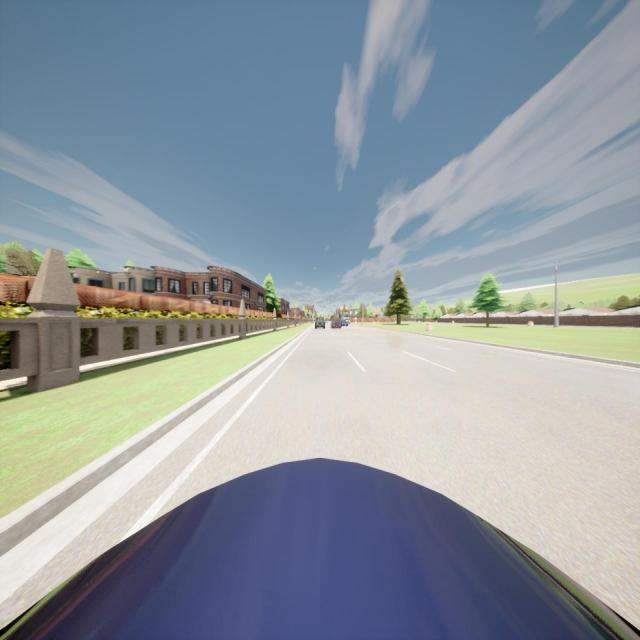Vehicle: (3, 458, 640, 640), (315, 317, 326, 329), (331, 318, 341, 328), (344, 317, 351, 324), (341, 321, 349, 327)
